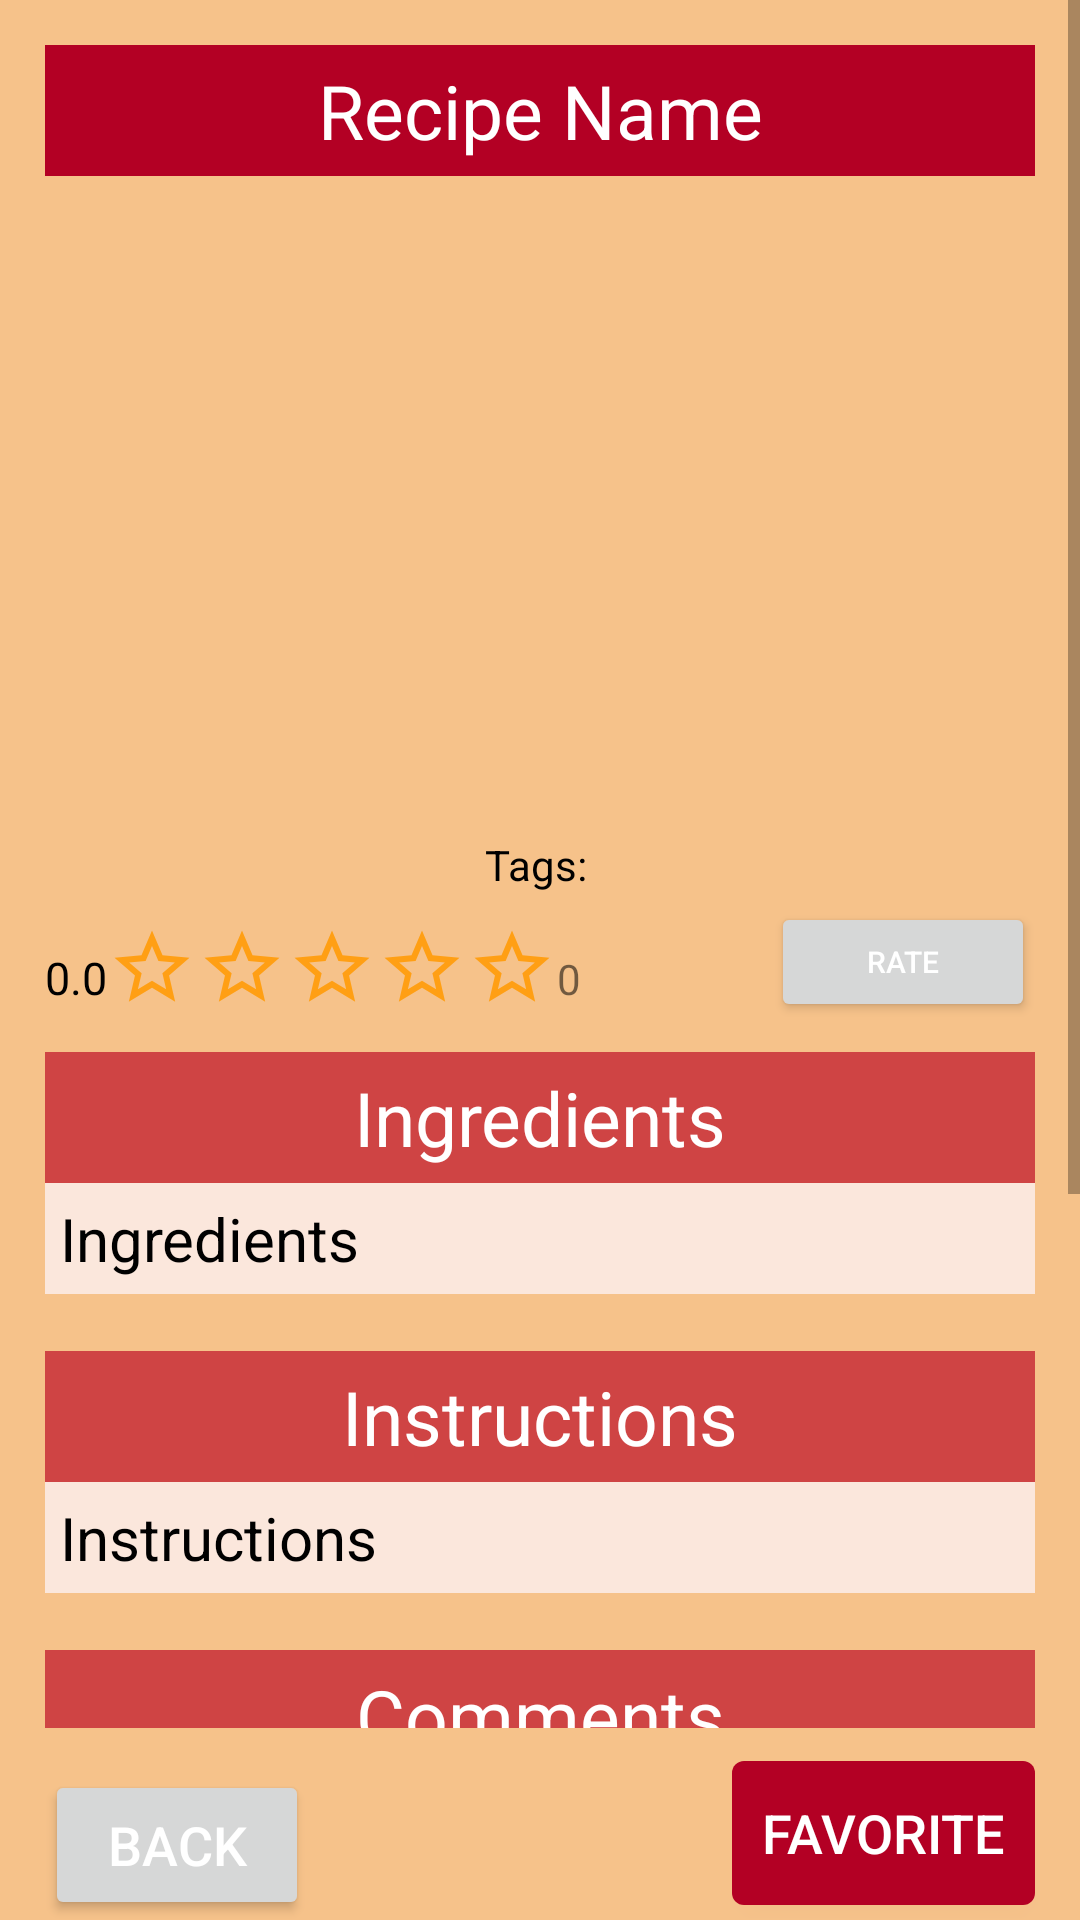

Locate icon controls on the screen. Image size 1080w x 1920h, boxes as region(x1, y1, x2, y2).
Star Icon: region(115, 931, 189, 1002), region(205, 931, 279, 1002), region(295, 931, 369, 1002), region(385, 931, 459, 1002), region(475, 931, 549, 1002)
